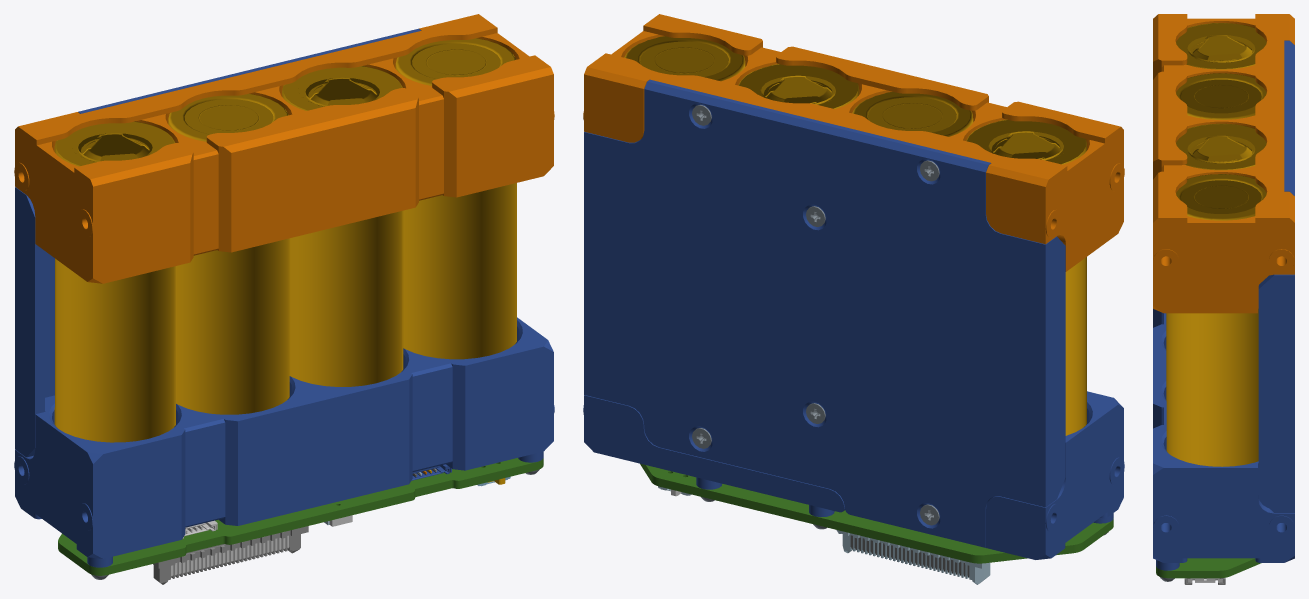
File: battery.glb
The picture shows the model from 3 angles, left to right: view 1: azimuth 30°, elevation 25°; view 2: azimuth 150°, elevation 25°; view 3: azimuth 270°, elevation 25°; orthographic projection. The views are drawn at different scales.
Visible parts, largest first — view 1: parts, inst_0_1, inst_1_1, inst_1_0, inst_0_0, board, if_0; view 2: parts, inst_0_1, board, inst_0_0, inst_1_1, inst_1_0, if_1; view 3: parts, inst_1_0, inst_0_0, inst_0_1, inst_1_1, board, if_3.
Part boxes in pixels (left/top/right/bottom): parts: left=14, top=14, right=554, bottom=579; inst_0_1: left=54, top=121, right=175, bottom=442; inst_1_1: left=168, top=93, right=289, bottom=414; inst_1_0: left=395, top=38, right=516, bottom=359; inst_0_0: left=282, top=66, right=403, bottom=386; board: left=58, top=458, right=543, bottom=575; if_0: left=153, top=526, right=308, bottom=584; parts: left=583, top=14, right=1124, bottom=559; inst_0_1: left=966, top=119, right=1086, bottom=435; board: left=640, top=463, right=1113, bottom=563; inst_0_0: left=738, top=64, right=859, bottom=108; inst_1_1: left=852, top=91, right=973, bottom=136; inst_1_0: left=624, top=36, right=745, bottom=81; if_1: left=836, top=530, right=990, bottom=584; parts: left=1153, top=14, right=1294, bottom=581; inst_1_0: left=1166, top=174, right=1266, bottom=466; inst_0_0: left=1166, top=123, right=1266, bottom=400; inst_0_1: left=1176, top=23, right=1266, bottom=69; inst_1_1: left=1176, top=73, right=1266, bottom=119; board: left=1156, top=558, right=1261, bottom=578; if_3: left=1184, top=577, right=1225, bottom=584.
Size of the model in its own units: 92.3 by 83.01 by 27.
